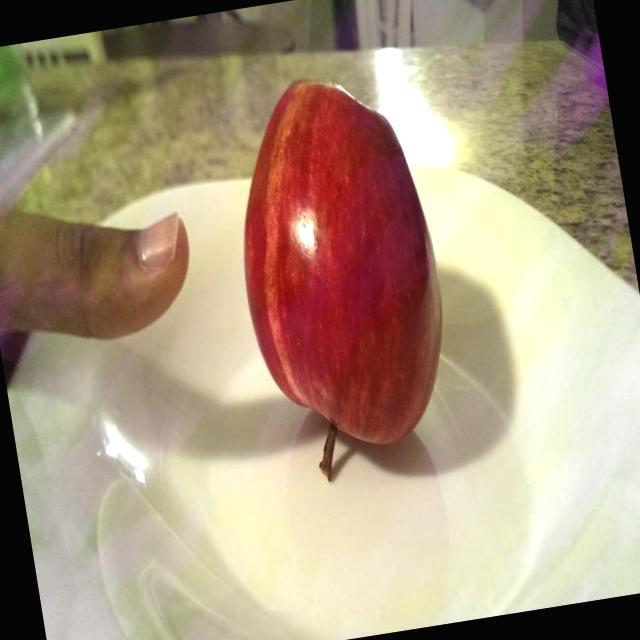Apple: (207, 53, 478, 501)
Finger: (34, 178, 208, 354)
